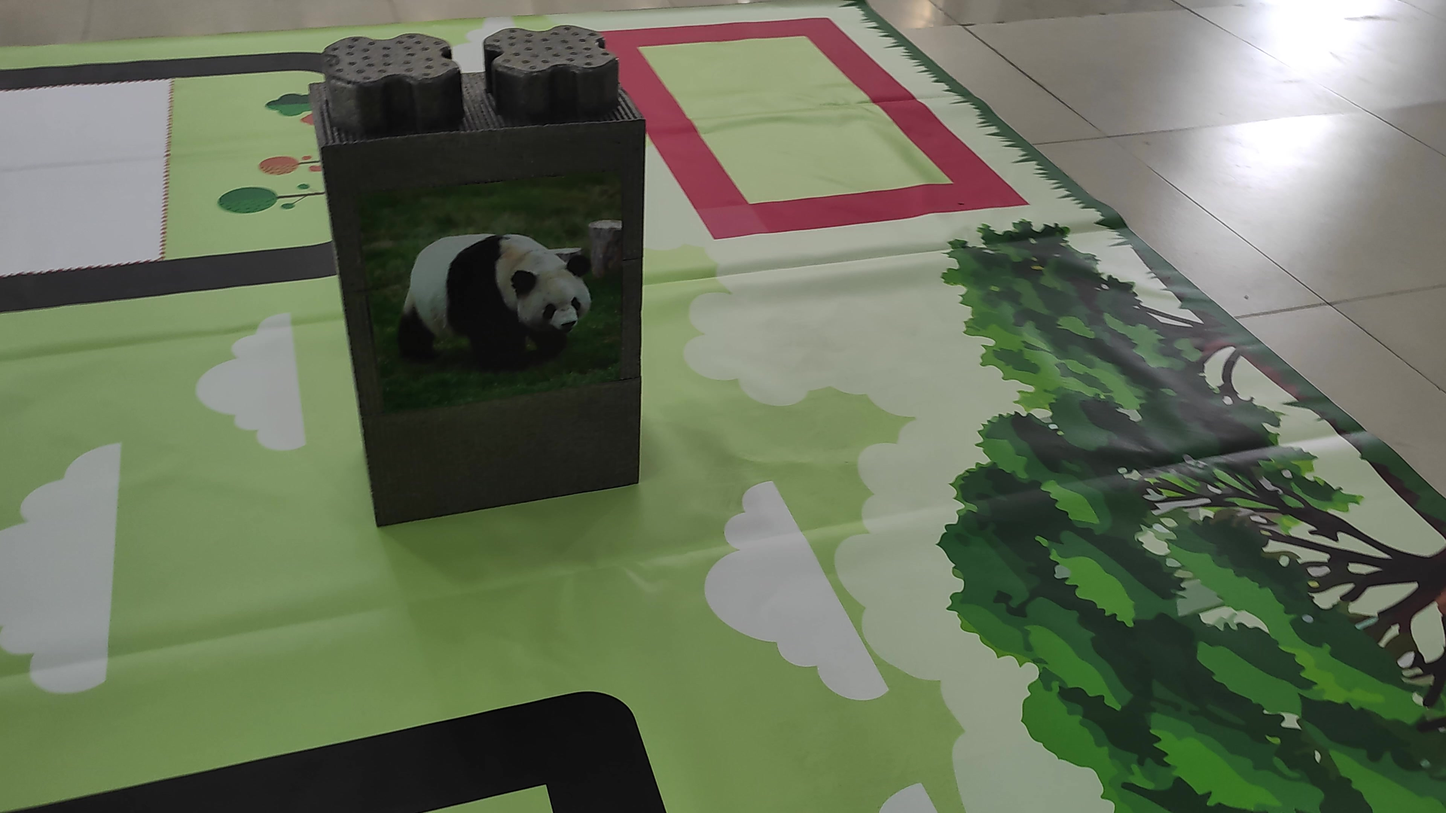panda: (346, 193, 607, 379)
